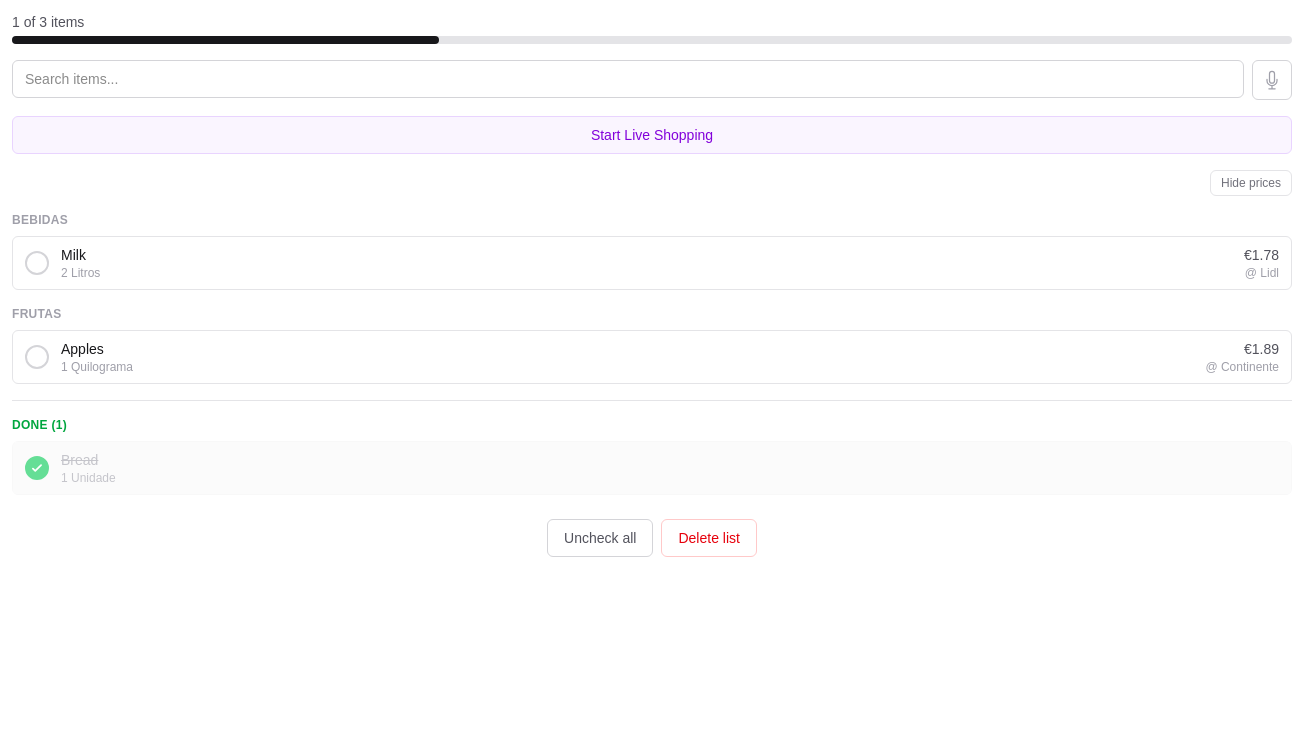
ShoppingList › toggles price visibility when toggle button is clicked
Note: Initially prices are shown
Click the button "Hide prices". click: [1251, 183]
box: [1210, 170, 1292, 196]
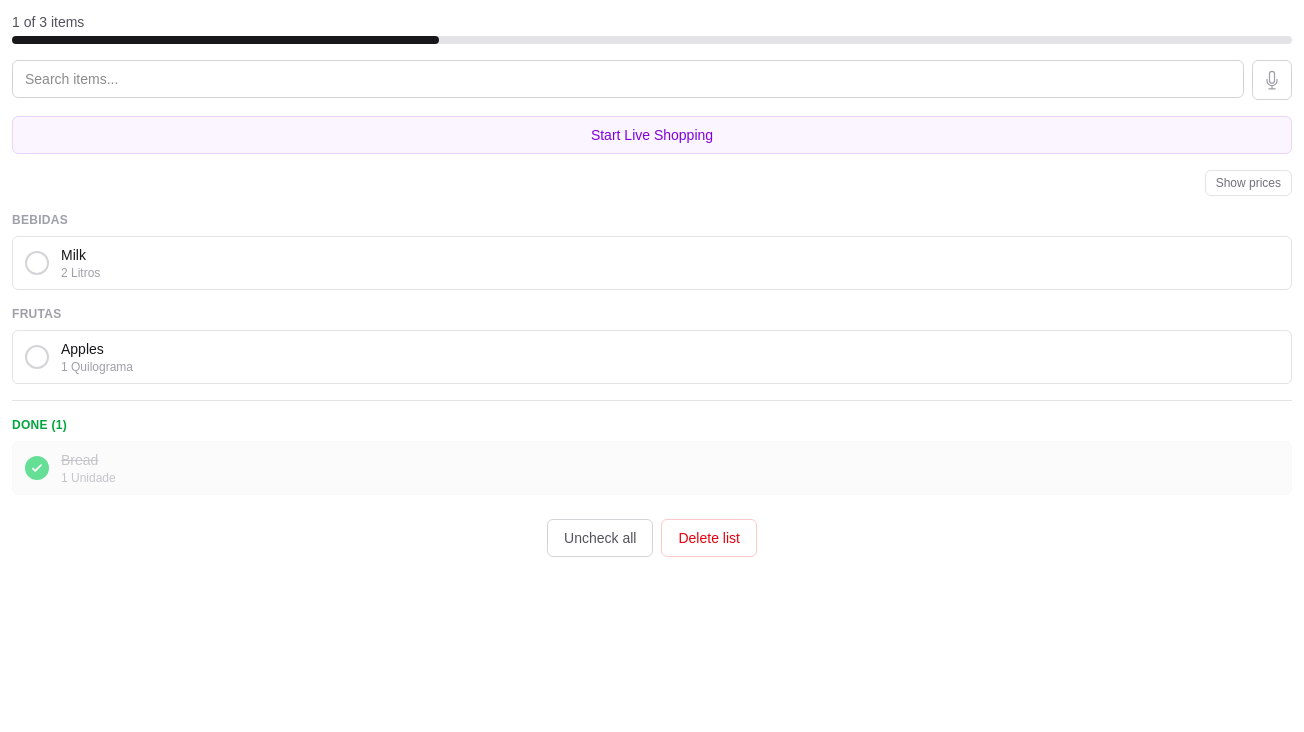
Expected: the button "Show prices" is shown, [1205, 170, 1292, 196]
